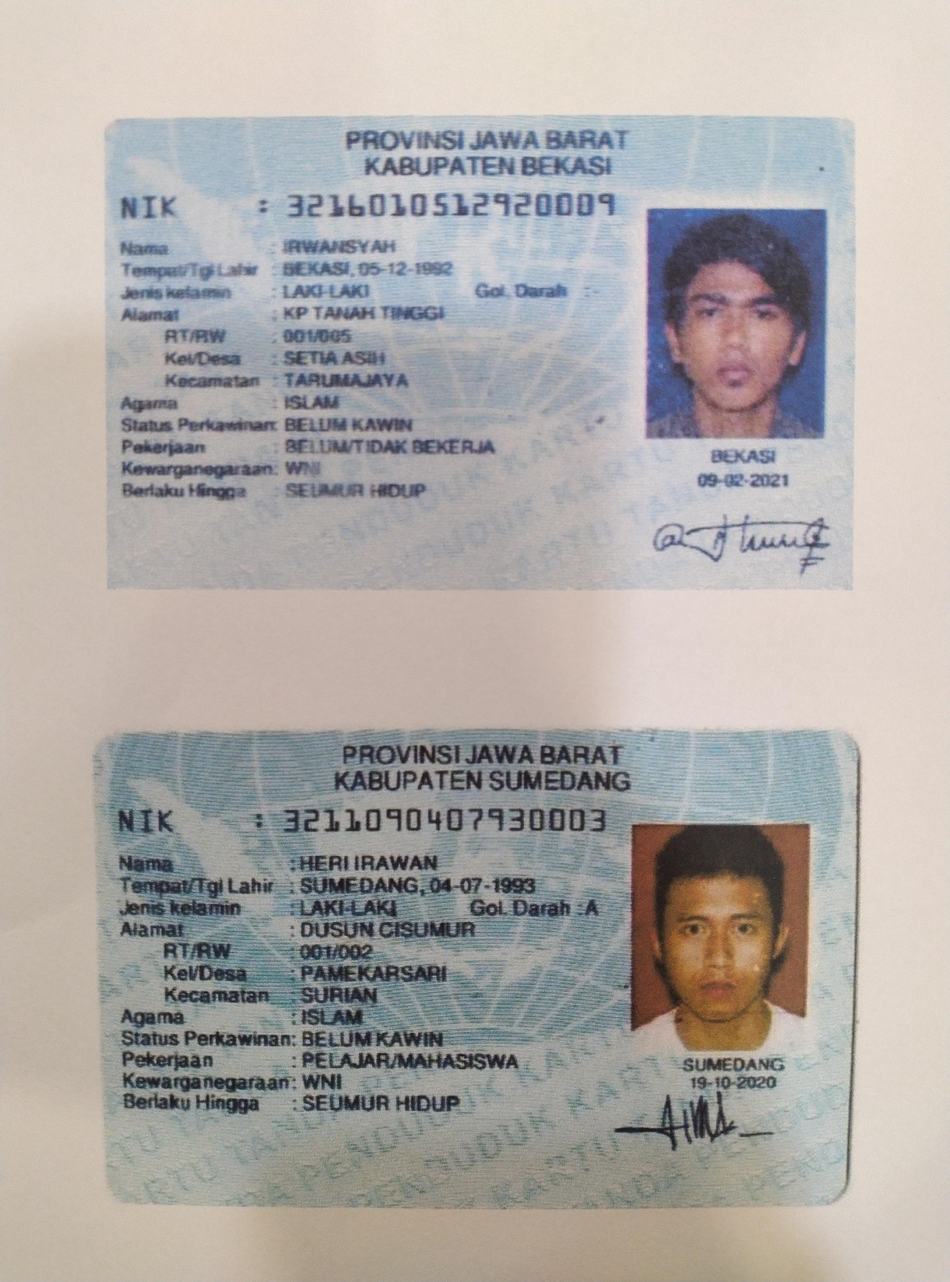ktp: (97, 730, 852, 1190), (109, 120, 855, 585)
